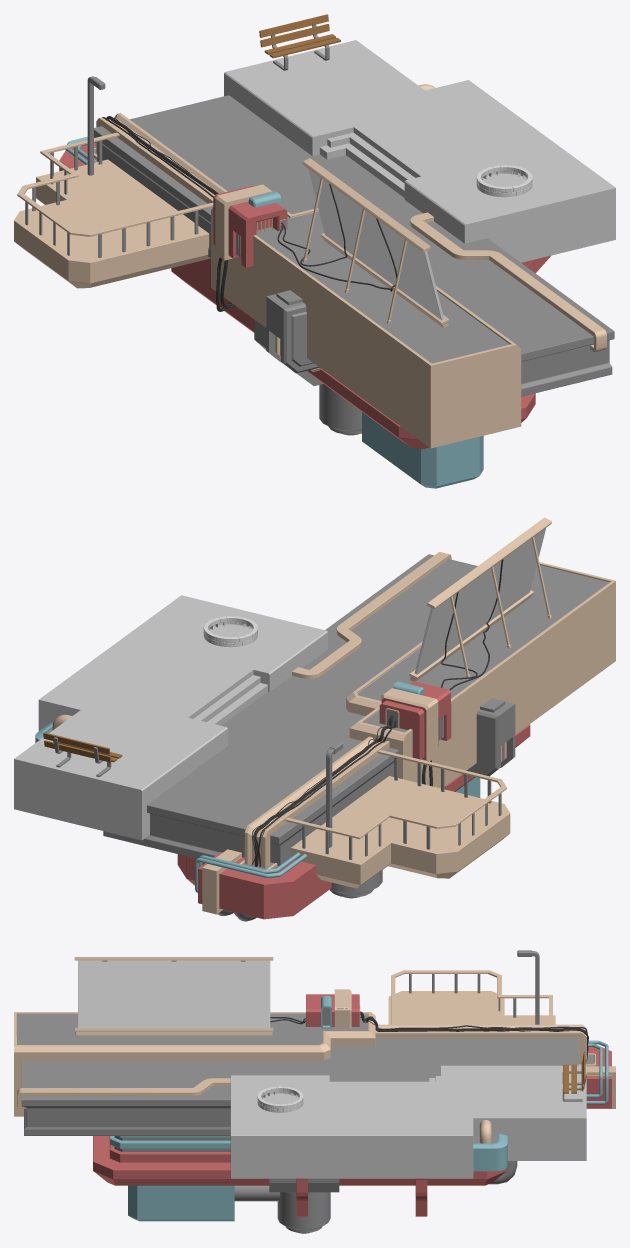
File: Islas_v1.fbx
3 renders of one model, top to bottom at view 1: azimuth 30°, elevation 25°; view 2: azimuth 150°, elevation 25°; view 3: azimuth 270°, elevation 25°, orthographic. The views are drawn at different scales.
Parts seen in each view (by area): view 1: Cube.027, Cube.009, Cube.001, Cube.020, Cube.003, Cube.049, Cube.010, Cube.047, Cube.054, Cube.019, Cube.013, Cube.022 (+7 smaller); view 2: Cube.027, Cube.001, Cube.009, Cube.020, Cube.003, Cube.017, Cube.010, Cube.013, Cube.019, Cube.054, Cube.022, Cube.004 (+8 smaller); view 3: Cube.027, Cube.001, Cube.003, Cube.009, Cube.047, Cube.020, Cube.049, Cube.013, Cube.054, Cylinder.005, Cube.008, Cube.010 (+11 smaller).
Part boxes in pixels (x1,y1,x2,y2): Cube.027: [224, 40, 615, 262]; Cube.009: [211, 208, 521, 448]; Cube.001: [94, 95, 614, 396]; Cube.020: [14, 159, 210, 288]; Cube.003: [308, 169, 443, 320]; Cube.049: [362, 412, 483, 488]; Cube.010: [213, 184, 287, 267]; Cube.047: [171, 258, 535, 448]; Cube.054: [410, 212, 606, 352]; Cube.019: [266, 290, 320, 373]; Cube.013: [96, 113, 227, 207]; Cube.022: [17, 132, 213, 236]; Cube.027: [14, 595, 327, 840]; Cube.001: [103, 554, 477, 865]; Cube.009: [346, 562, 615, 788]; Cube.020: [291, 776, 510, 888]; Cube.003: [414, 528, 545, 674]; Cube.017: [198, 849, 331, 919]; Cube.010: [379, 681, 451, 761]; Cube.013: [244, 736, 389, 868]; Cube.019: [462, 698, 515, 777]; Cube.054: [292, 552, 451, 678]; Cube.022: [285, 750, 506, 839]; Cube.004: [427, 517, 551, 609]; Cube.027: [230, 1065, 586, 1178]; Cube.001: [21, 1038, 578, 1135]; Cube.003: [78, 960, 270, 1028]; Cube.009: [14, 1012, 375, 1116]; Cube.047: [93, 1136, 506, 1185]; Cube.020: [388, 991, 555, 1024]; Cube.049: [128, 1185, 234, 1221]; Cube.013: [375, 1024, 586, 1063]; Cube.054: [17, 1078, 230, 1108]; Cylinder.005: [277, 1192, 330, 1233]; Cube.008: [74, 1027, 273, 1035]; Cube.010: [306, 989, 359, 1028].
Bounding box in the file's own units: 3324 × 2149 × 4747.
